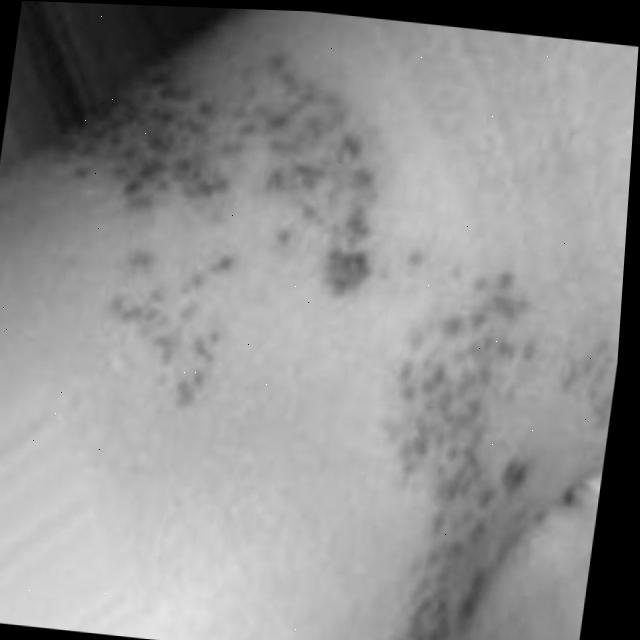Shingles: (23, 24, 386, 402), (363, 269, 623, 640)
